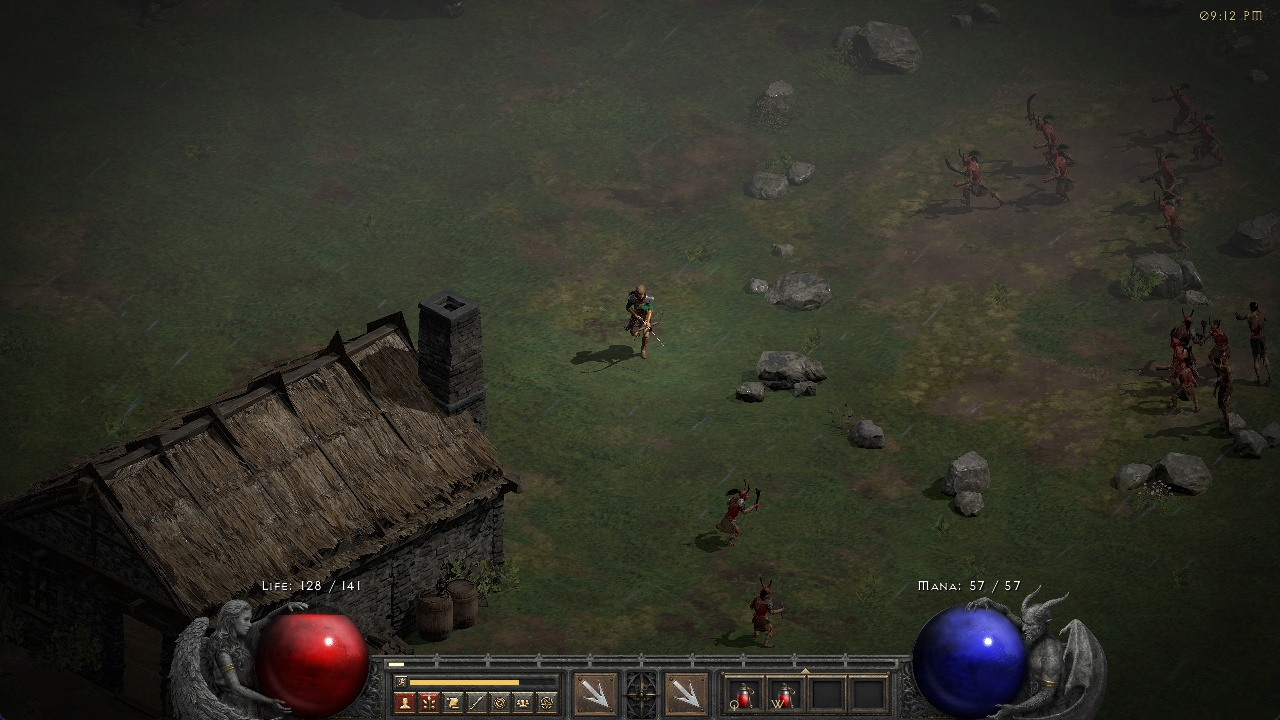fallen: (942, 146, 1005, 211), (711, 475, 764, 548), (747, 575, 791, 651), (1153, 191, 1197, 254), (1042, 144, 1082, 205), (1020, 92, 1062, 144), (1188, 114, 1231, 162), (1166, 364, 1205, 408), (1143, 146, 1180, 191), (1160, 82, 1195, 110), (1206, 317, 1230, 348), (1172, 311, 1199, 336), (1162, 339, 1191, 356)
